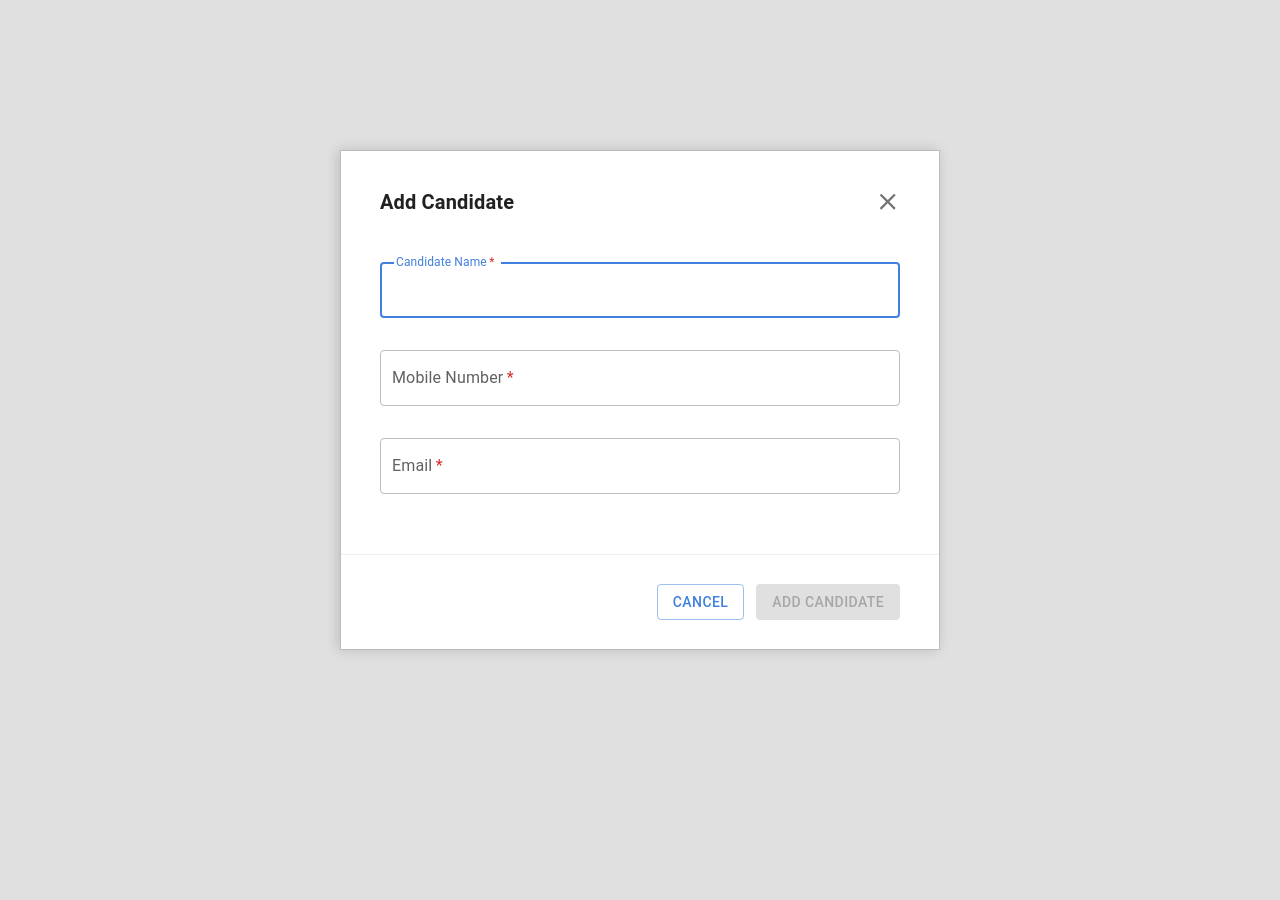
AddCandidateDialog › closes and announces the new candidate on success
In the field labelled "Candidate Name *": (640, 290) [380,262,900,318], type "Taylor Swift"
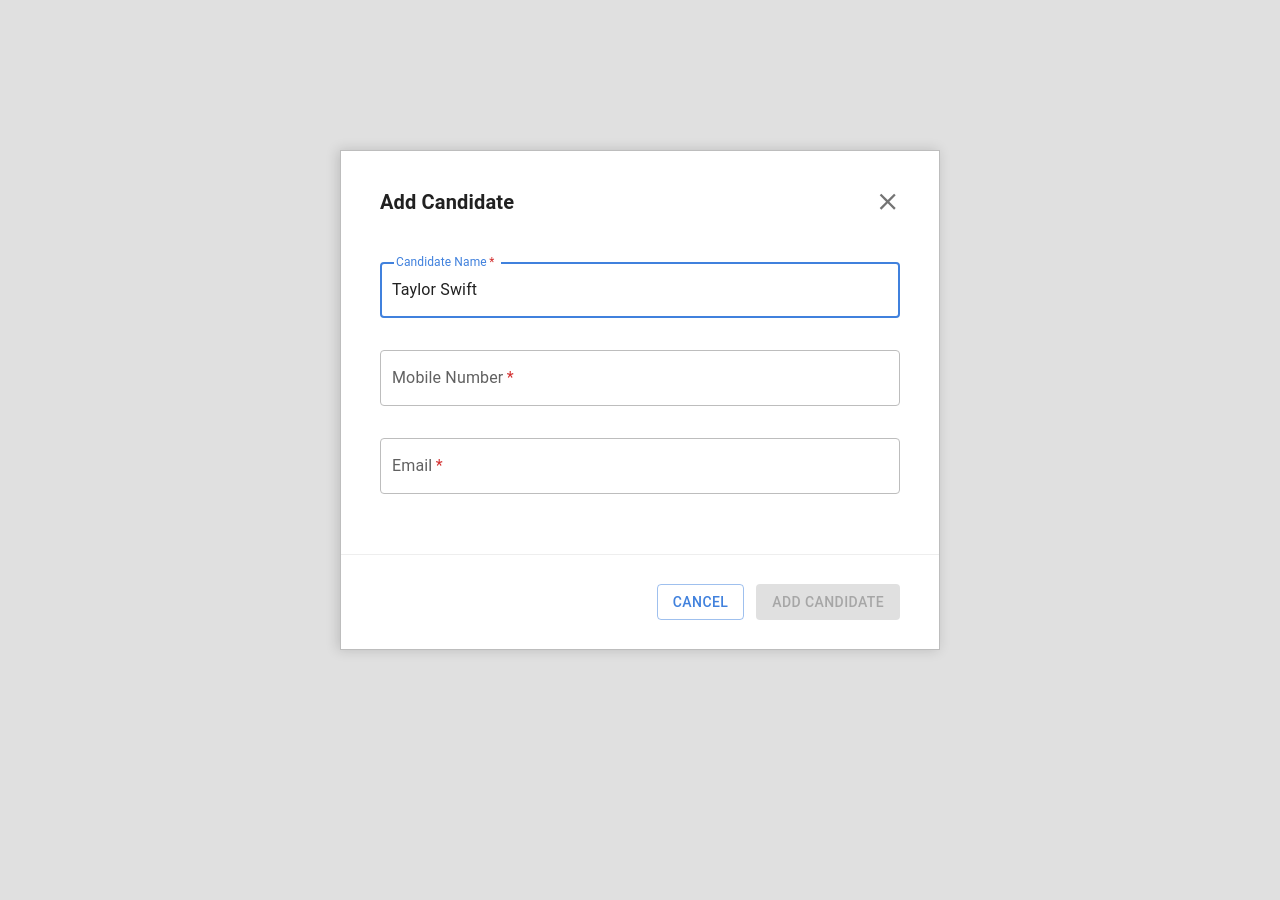
In the field labelled "Mobile Number *": (640, 378) [380,350,900,406], type "9876543210"
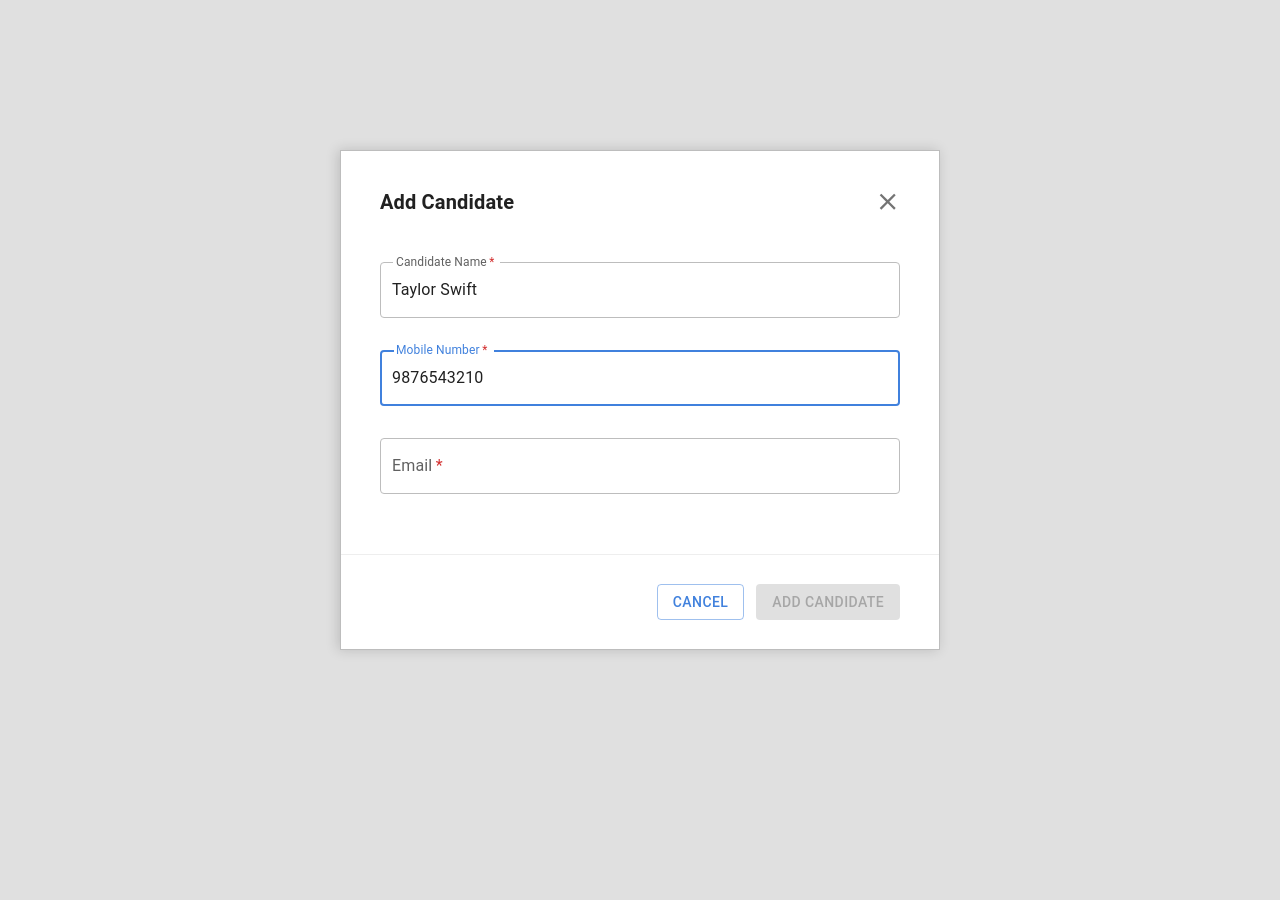
In the field labelled "Email *": (640, 466) [380,438,900,494], type "taylor@example.com"
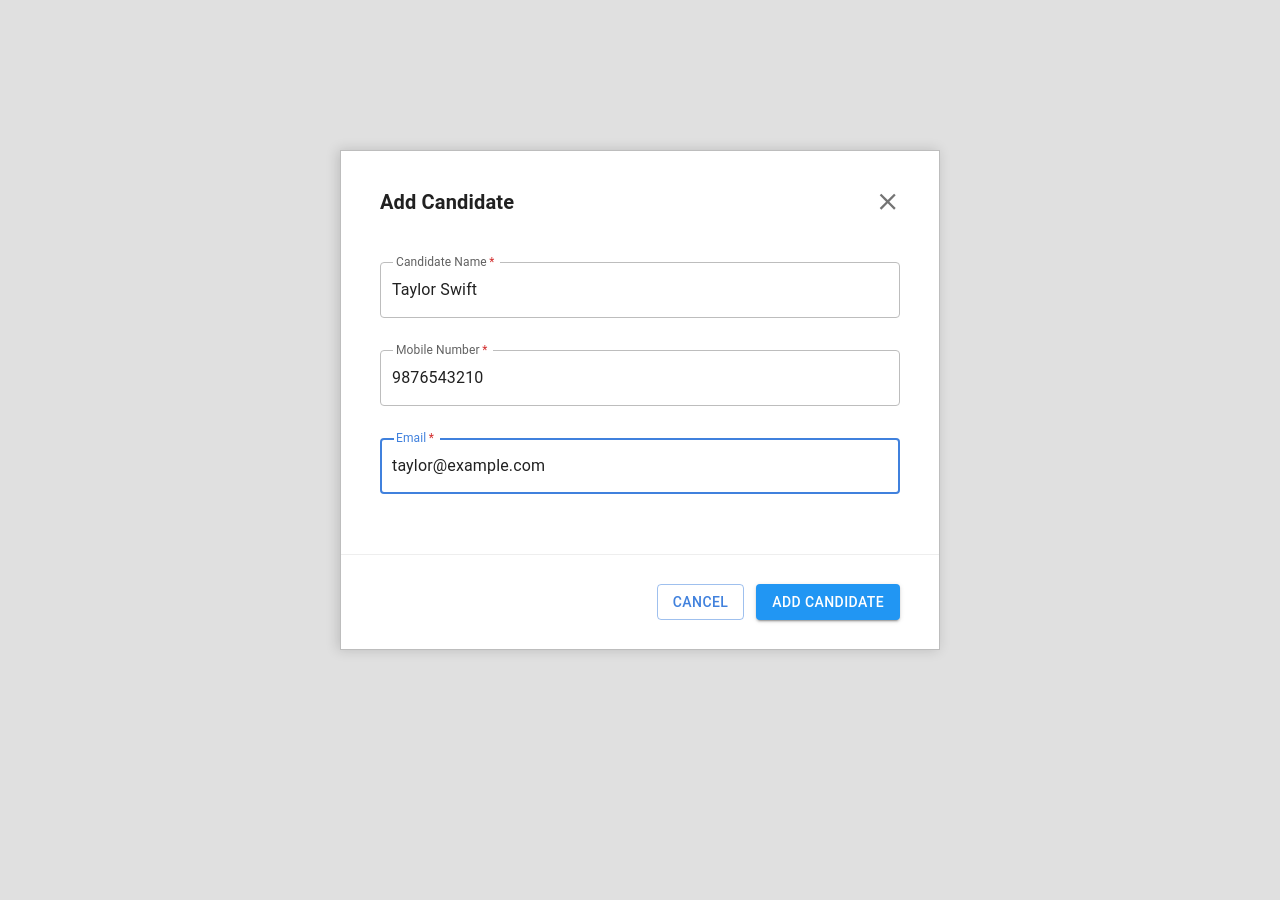
Click the button "Add candidate": (828, 602) [756,584,900,620]
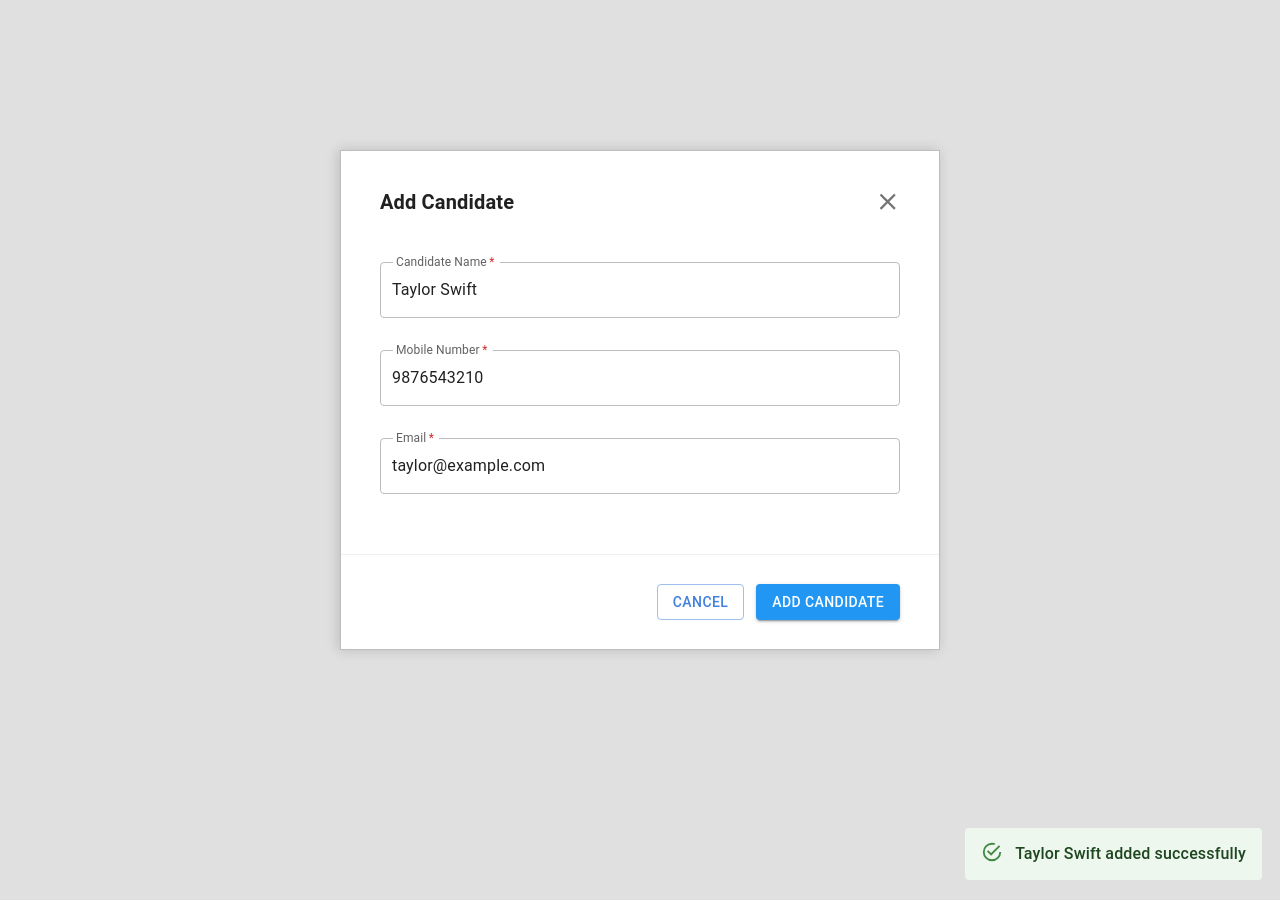
Expected: the text "Taylor Swift added successfully" is shown, [1015,844,1246,863]
